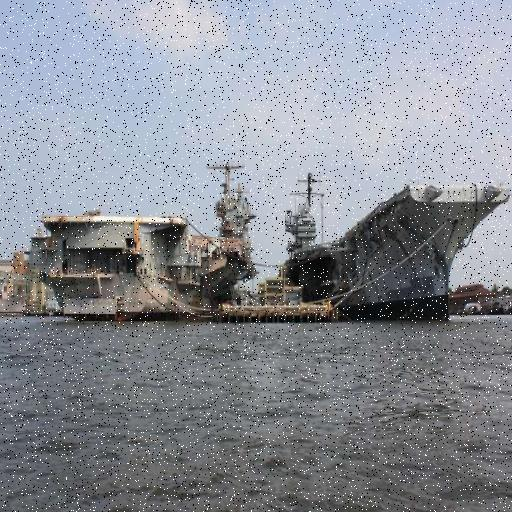Portanaves: (18, 130, 255, 325), (278, 164, 512, 328)
